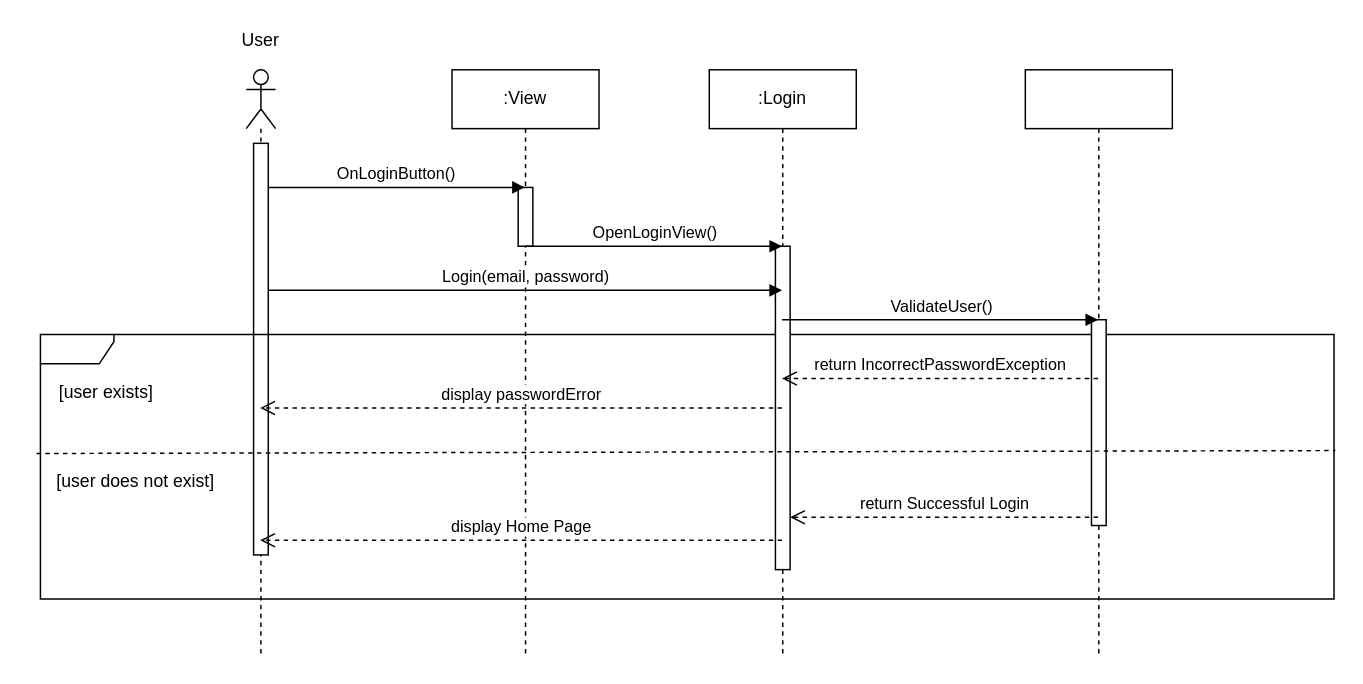
Image size: 1363x684. Some labels were removed from this diagram. The shapes that lost their labels are listed below. From the top down, each one's box as (x1, y1, x2, y2) in pixels, then its label:
(1024, 68, 1172, 658): :Account
(39, 333, 1334, 599): alt
